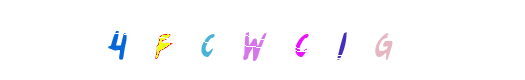4: (122, 0, 202, 80)
C: (148, 0, 228, 80), (223, 0, 303, 80)
F: (122, 0, 202, 80)
G: (260, 0, 340, 80)
I: (258, 0, 338, 80)
W: (150, 0, 230, 80)
